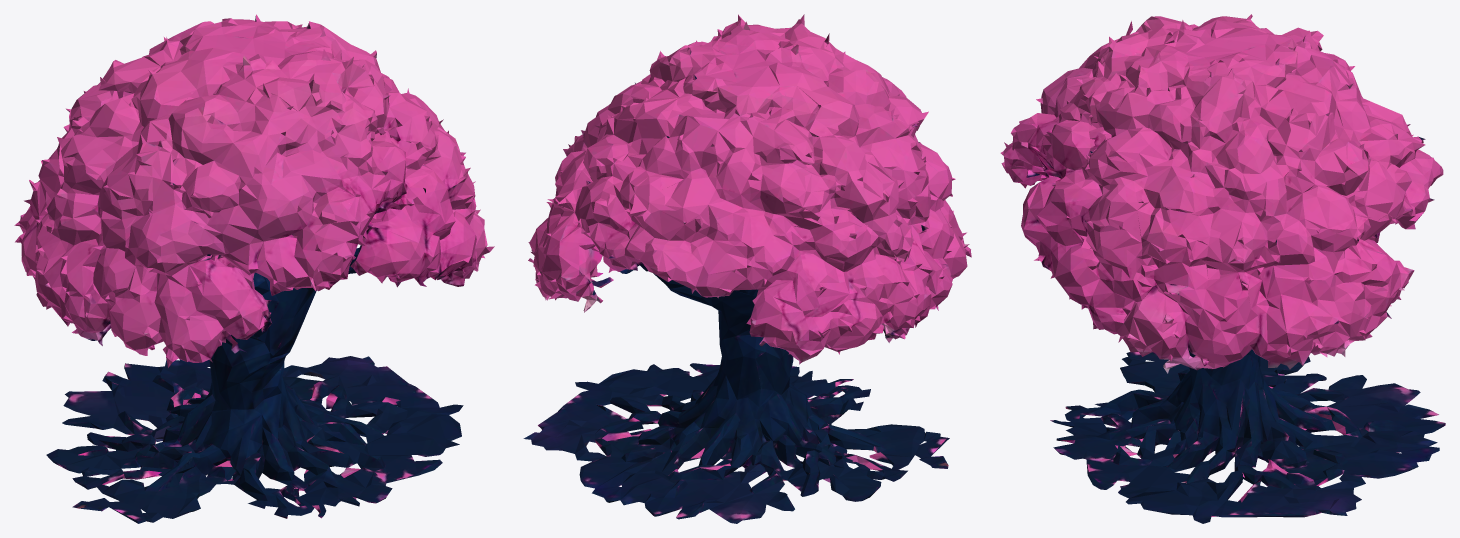
The model's file is yggdrasil-world-tree-merged-2026-04-25t02-07-36-925z-generated-2026-04-25T02-24-40-321Z.medium.glb.
The picture shows the model from 3 angles, left to right: view 1: azimuth 30°, elevation 25°; view 2: azimuth 150°, elevation 25°; view 3: azimuth 270°, elevation 25°; orthographic projection. The views are drawn at different scales.
Visible parts, largest first — view 1: temp_mesh.ply; view 2: temp_mesh.ply; view 3: temp_mesh.ply.
Boxes of the visible parts, x1,y1,x2,y2 form: temp_mesh.ply: (14,14,494,523); temp_mesh.ply: (523,14,971,523); temp_mesh.ply: (1000,14,1445,523).
Size of the model in its own units: 1.97 by 1.95 by 1.95.
1 material, 1 textured.
